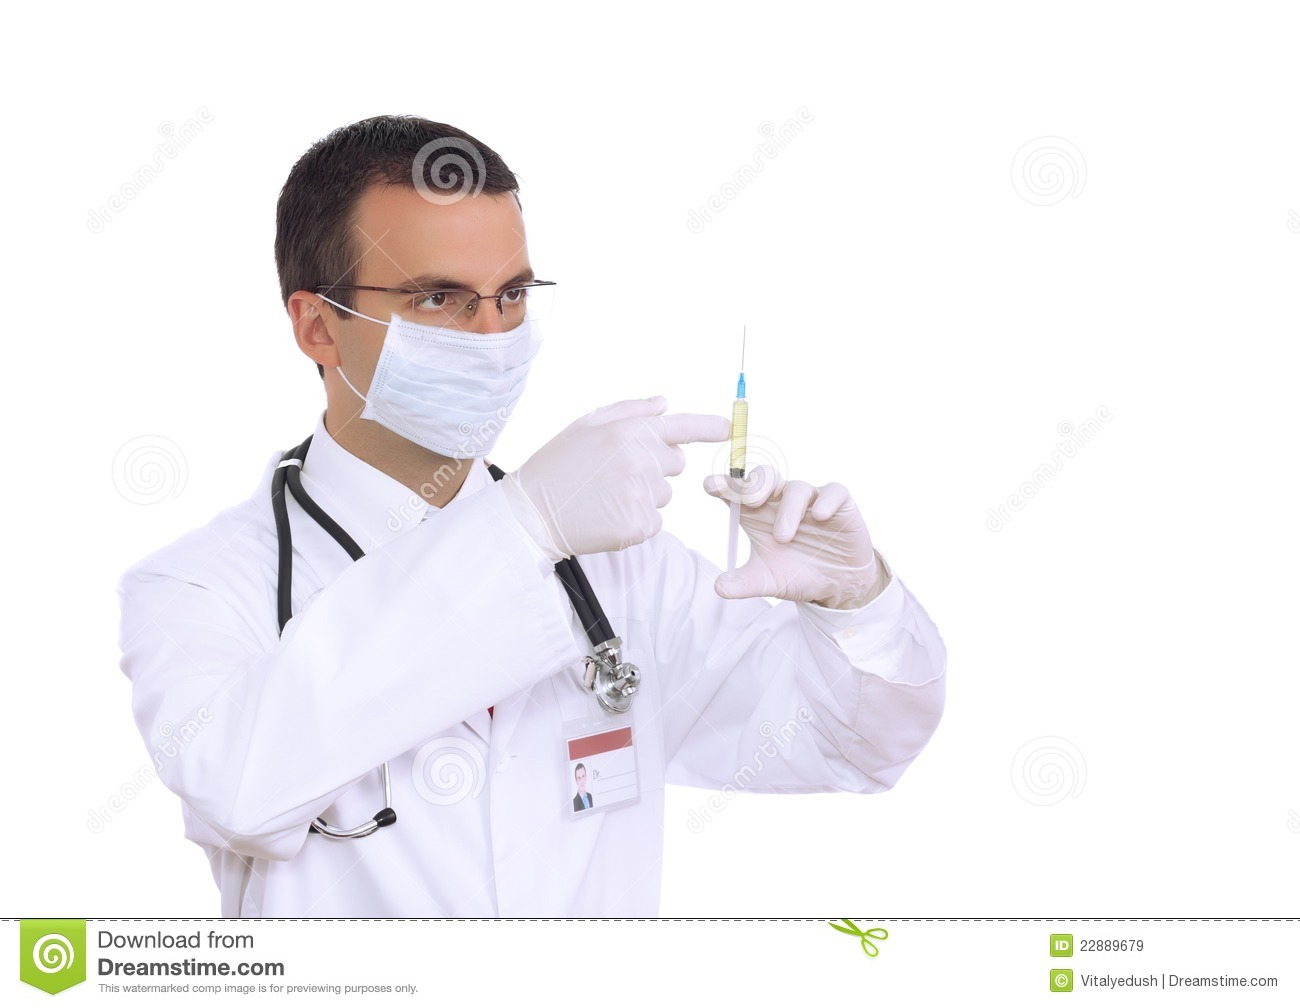mask: (372, 332, 550, 446)
